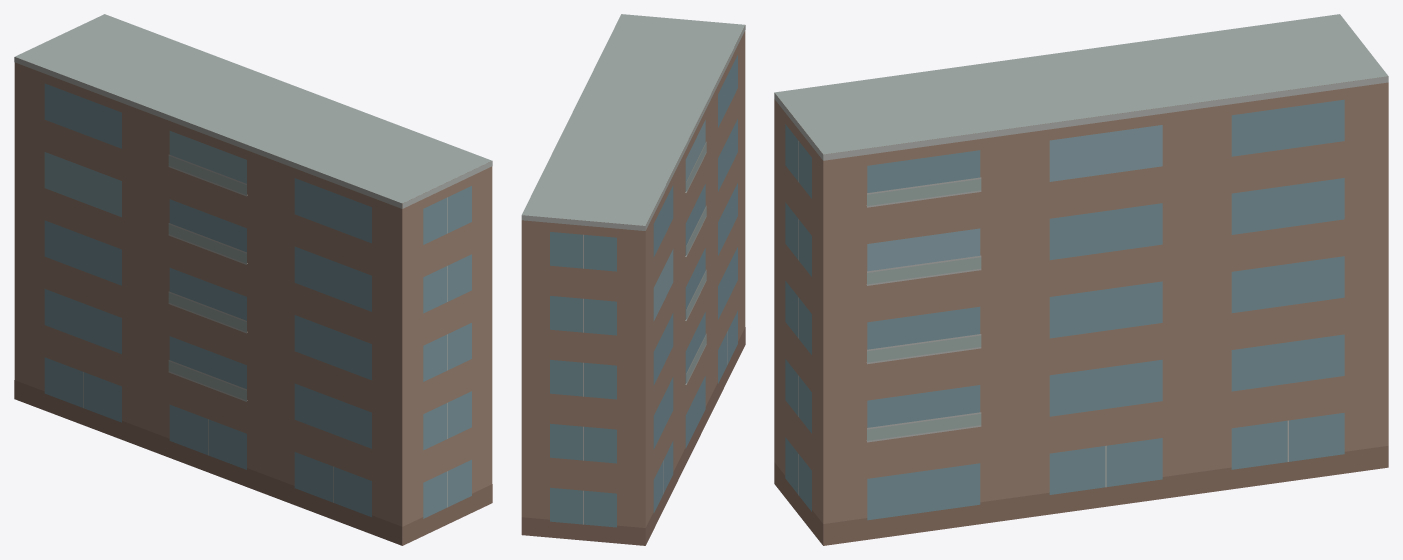
File: survey-upis-33038967.glb
3 renders of one model, left to right at view 1: azimuth 30°, elevation 25°; view 2: azimuth 150°, elevation 25°; view 3: azimuth 270°, elevation 25°, orthographic. The views are drawn at different scales.
Visible parts, largest first — view 1: survey-upis-33038967.tmp; view 2: survey-upis-33038967.tmp; view 3: survey-upis-33038967.tmp.
Boxes of the visible parts, x1,y1,x2,y2 form: survey-upis-33038967.tmp: [14, 14, 492, 545]; survey-upis-33038967.tmp: [521, 14, 745, 545]; survey-upis-33038967.tmp: [774, 14, 1388, 545].
Size of the model in its own units: 11.75 by 15.25 by 21.7.
